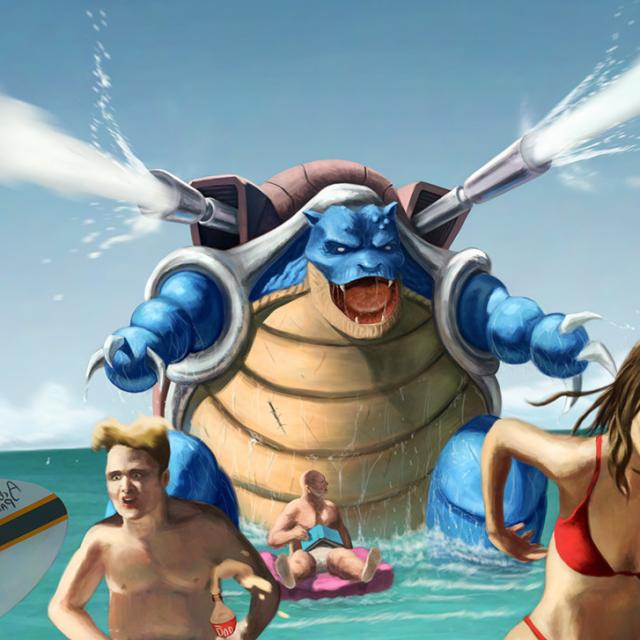Blastoise: (150, 118, 536, 539)
